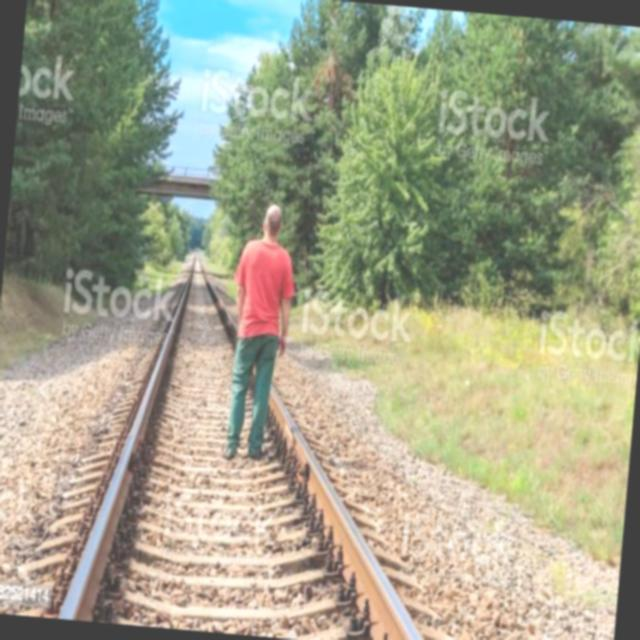danger: (215, 202, 300, 465)
rail: (23, 248, 489, 640)
